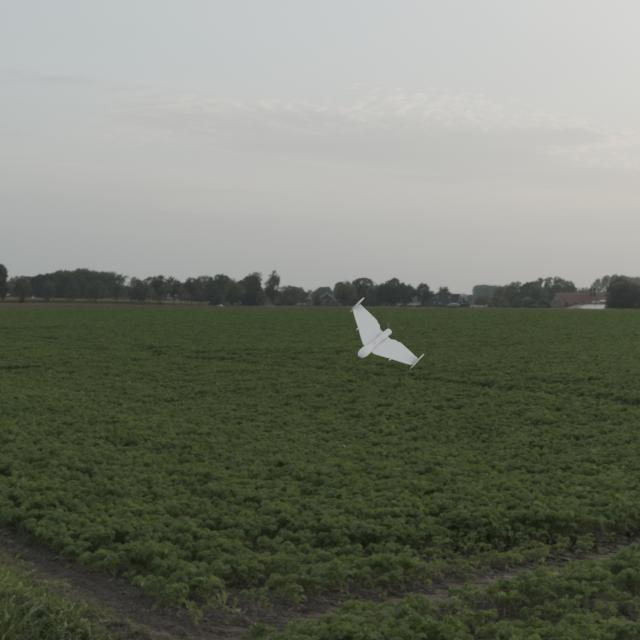Airaplan: (350, 298, 424, 369)
